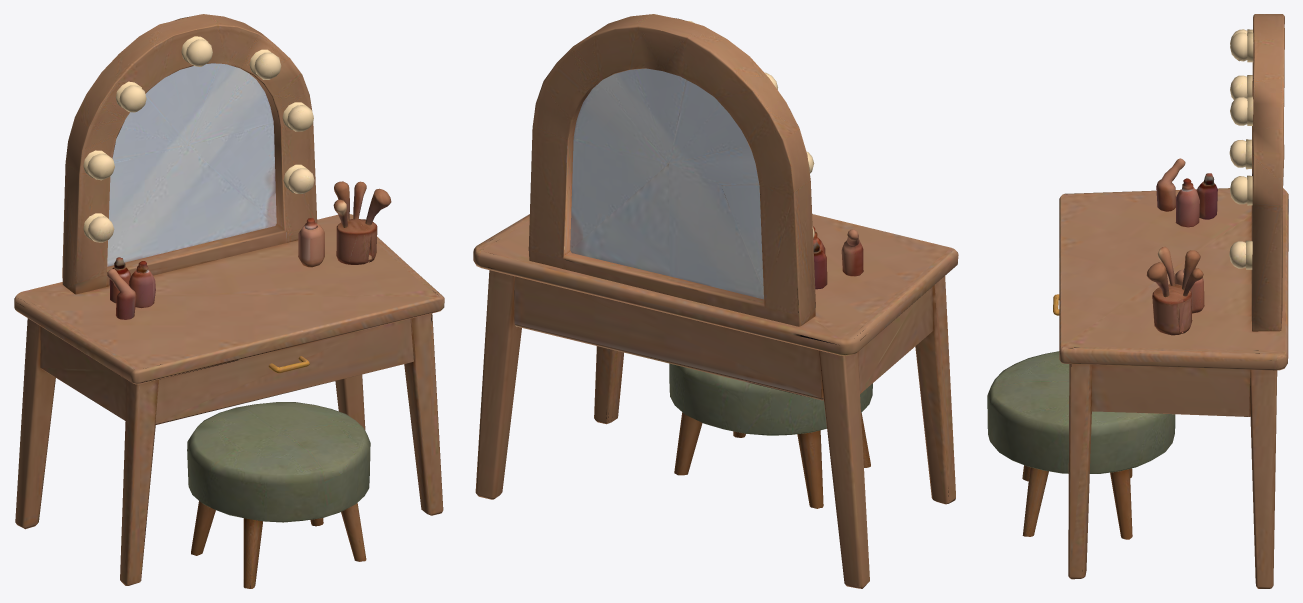
File: vanity_set.glb
3 views of the same model, side by side, from view 1: azimuth 30°, elevation 25°; view 2: azimuth 150°, elevation 25°; view 3: azimuth 270°, elevation 25° (orthographic). The views are drawn at different scales.
Parts seen in each view (by area): view 1: geometry_0; view 2: geometry_0; view 3: geometry_0.
Boxes of the visible parts, left/top/right/bottom form: geometry_0: left=14, top=14, right=444, bottom=588; geometry_0: left=473, top=14, right=958, bottom=588; geometry_0: left=987, top=14, right=1288, bottom=588.
Bounding box in the file's own units: 0.7768 × 1 × 0.5706.
1 material, 1 textured.
